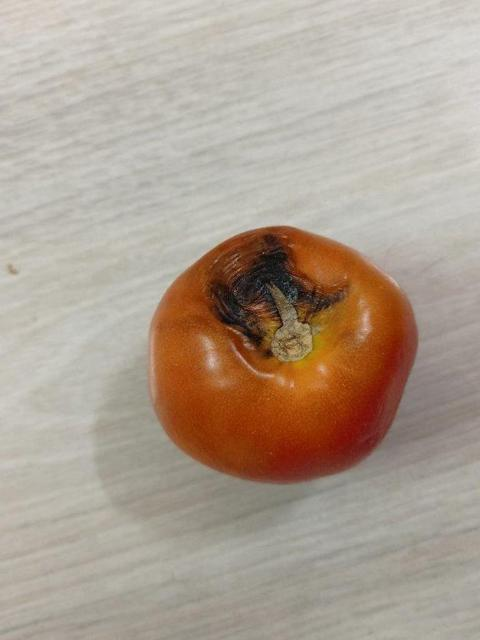defect: (142, 211, 417, 491)
